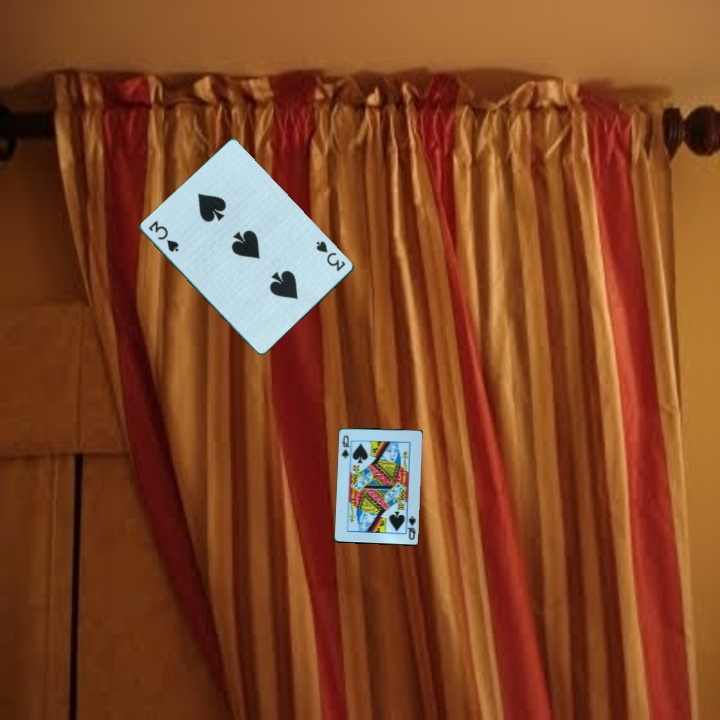3s: (145, 217, 182, 255), (312, 237, 349, 274)
Qs: (404, 513, 418, 543), (338, 432, 352, 460)
